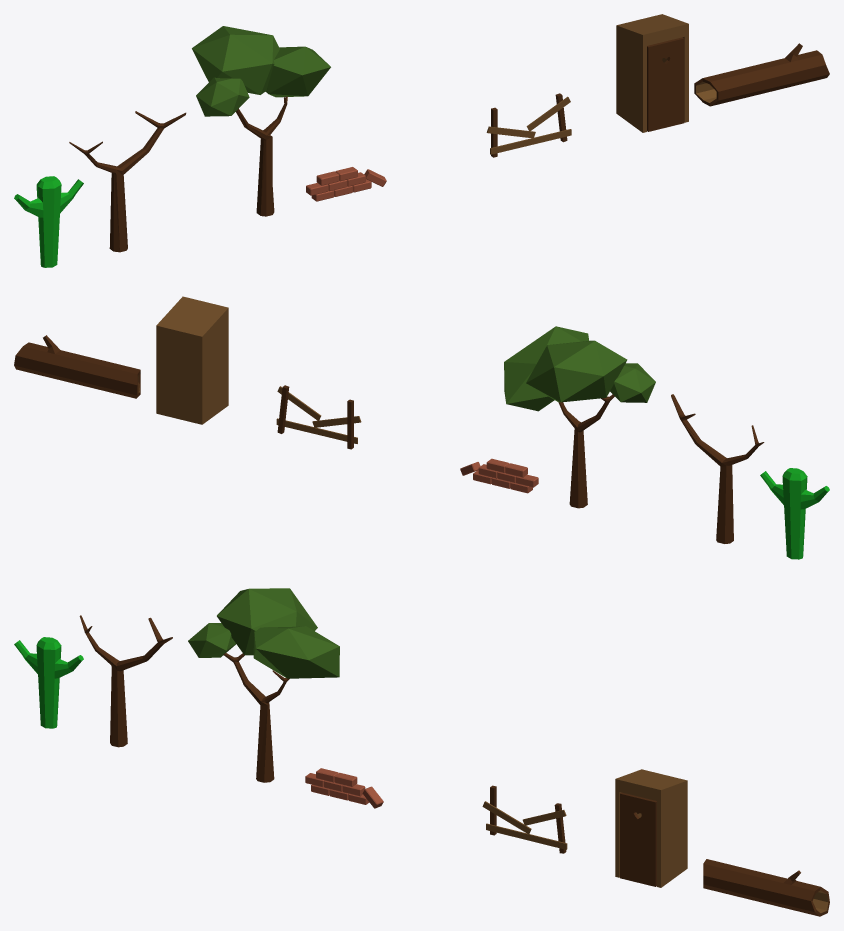
File: teile_001.gltf
3 renders of one model, top to bottom at view 1: azimuth 30°, elevation 25°; view 2: azimuth 150°, elevation 25°; view 3: azimuth 330°, elevation 25°, orthographic.
Visible parts, largest first — view 1: Baum2-col, Haeuschen-col, Baumstamm-col, Kaktus.-col, Baum1-col, Zaun-col, Mauer-col; view 2: Baum2-col, Haeuschen-col, Baumstamm-col, Kaktus.-col, Baum1-col, Zaun-col, Mauer-col; view 3: Baum2-col, Haeuschen-col, Baumstamm-col, Kaktus.-col, Baum1-col, Zaun-col, Mauer-col.
Boxes of the visible parts, box(x1,y1,x2,y2) form: Baum2-col: box(192, 26, 330, 216); Haeuschen-col: box(616, 14, 688, 132); Baumstamm-col: box(694, 43, 829, 106); Kaktus.-col: box(14, 176, 83, 267); Baum1-col: box(69, 111, 186, 252); Zaun-col: box(486, 93, 571, 157); Mauer-col: box(306, 167, 386, 201); Baum2-col: box(504, 326, 655, 508); Haeuschen-col: box(156, 296, 228, 424); Baumstamm-col: box(14, 335, 140, 398); Kaktus.-col: box(760, 468, 829, 559); Baum1-col: box(671, 394, 764, 543); Zaun-col: box(276, 385, 361, 449); Mauer-col: box(460, 458, 538, 493); Baum2-col: box(188, 588, 339, 782); Haeuschen-col: box(615, 769, 687, 887); Baumstamm-col: box(703, 859, 829, 916); Kaktus.-col: box(14, 637, 83, 728); Baum1-col: box(79, 615, 172, 747); Zaun-col: box(482, 785, 567, 853); Mauer-col: box(305, 768, 383, 808).
Size of the model in its own units: 19.75 by 4.15 by 2.51.
